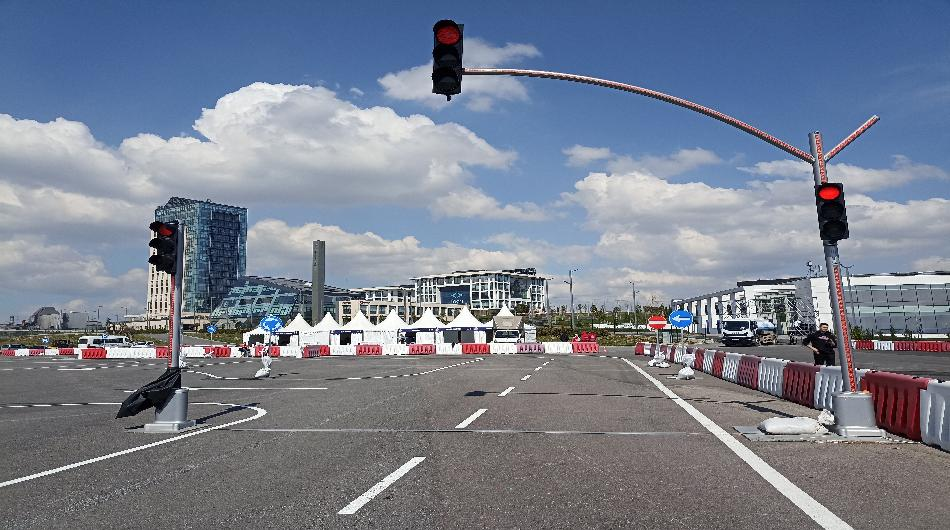red_light: (429, 17, 471, 96), (813, 175, 848, 240), (150, 222, 182, 275)
